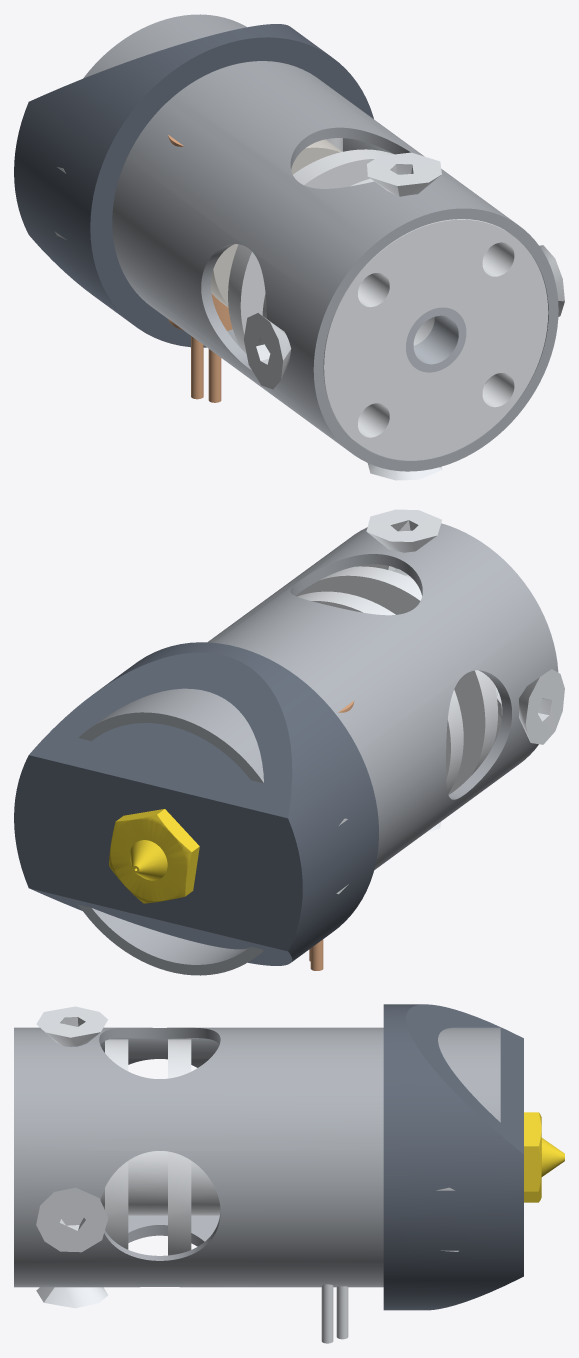
3 views of the same model, one above another, from view 1: azimuth 30°, elevation 25°; view 2: azimuth 150°, elevation 25°; view 3: azimuth 270°, elevation 25° (orthographic). The views are drawn at different scales.
Visible parts, largest first — view 1: chube_body, compact_heatsink_fins, silicone_sock, throat_bushing, torx_screw_2, torx_screw_1, heater_cartridge, nickel_melt_core, torx_screw_3; view 2: silicone_sock, chube_body, compact_heatsink_fins, v6_nozzle, torx_screw_2, torx_screw_1; view 3: chube_body, silicone_sock, compact_heatsink_fins, torx_screw_0, v6_nozzle, torx_screw_1, thermistor_cartridge, torx_screw_3.
Boxes of the visible parts, x1,y1,x2,y2 form: chube_body: [83, 14, 558, 471]; compact_heatsink_fins: [228, 149, 548, 460]; silicone_sock: [14, 24, 373, 347]; throat_bushing: [406, 307, 466, 372]; torx_screw_2: [243, 313, 291, 389]; torx_screw_1: [367, 152, 441, 196]; heater_cartridge: [168, 135, 232, 402]; nickel_melt_core: [211, 139, 342, 307]; torx_screw_3: [367, 463, 441, 480]; silicone_sock: [14, 642, 378, 965]; chube_body: [78, 523, 558, 975]; compact_heatsink_fins: [295, 564, 501, 794]; v6_nozzle: [109, 809, 199, 903]; torx_screw_2: [495, 669, 564, 744]; torx_screw_1: [366, 509, 441, 578]; chube_body: [14, 1027, 500, 1287]; silicone_sock: [383, 1004, 523, 1310]; compact_heatsink_fins: [100, 1039, 220, 1255]; torx_screw_0: [36, 1187, 108, 1252]; v6_nozzle: [524, 1112, 564, 1202]; torx_screw_1: [36, 1006, 108, 1046]; thermistor_cartridge: [321, 1284, 348, 1343]; torx_screw_3: [36, 1287, 107, 1308].
Bounding box in the file's own units: 0.0262 × 0.0281 × 0.0472.
